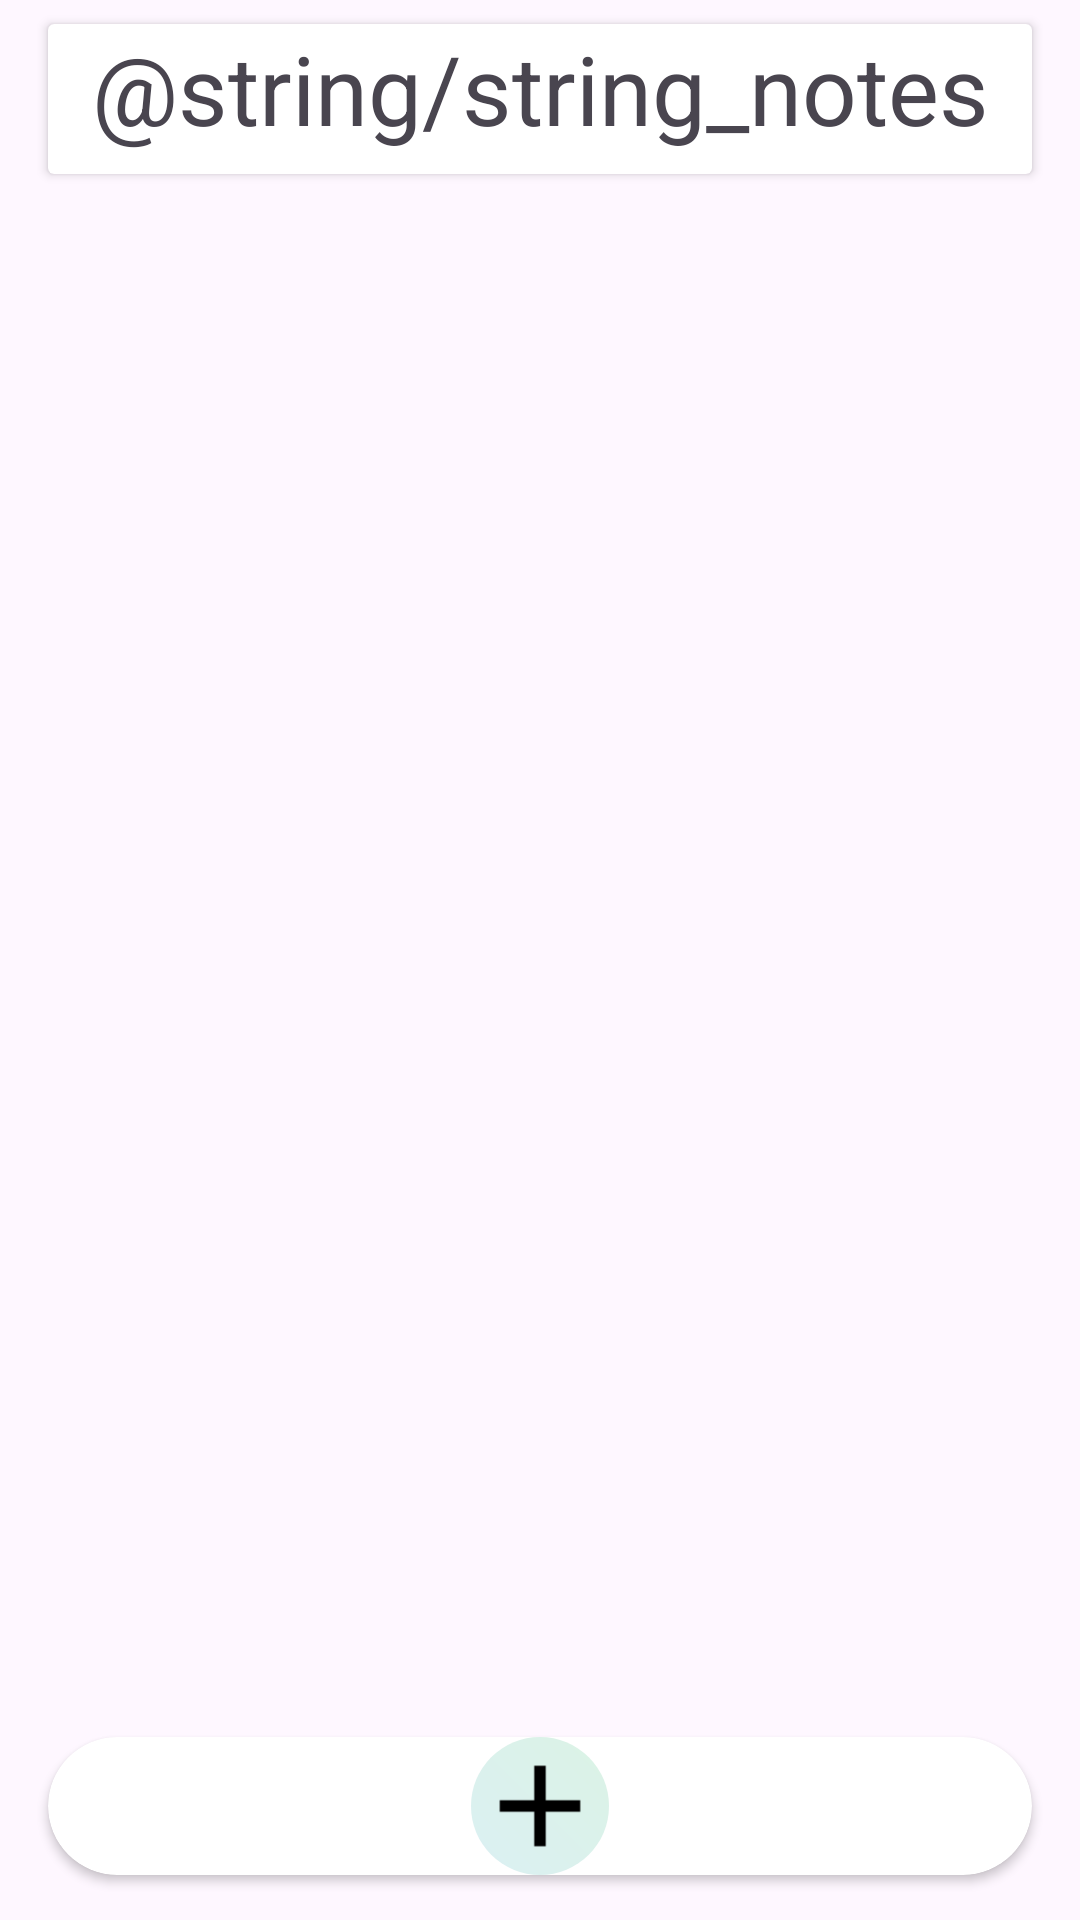

Point at icon controls on the screen. Image size 1080px×1920px, points as point (x, y).
add: point (540, 1806)
